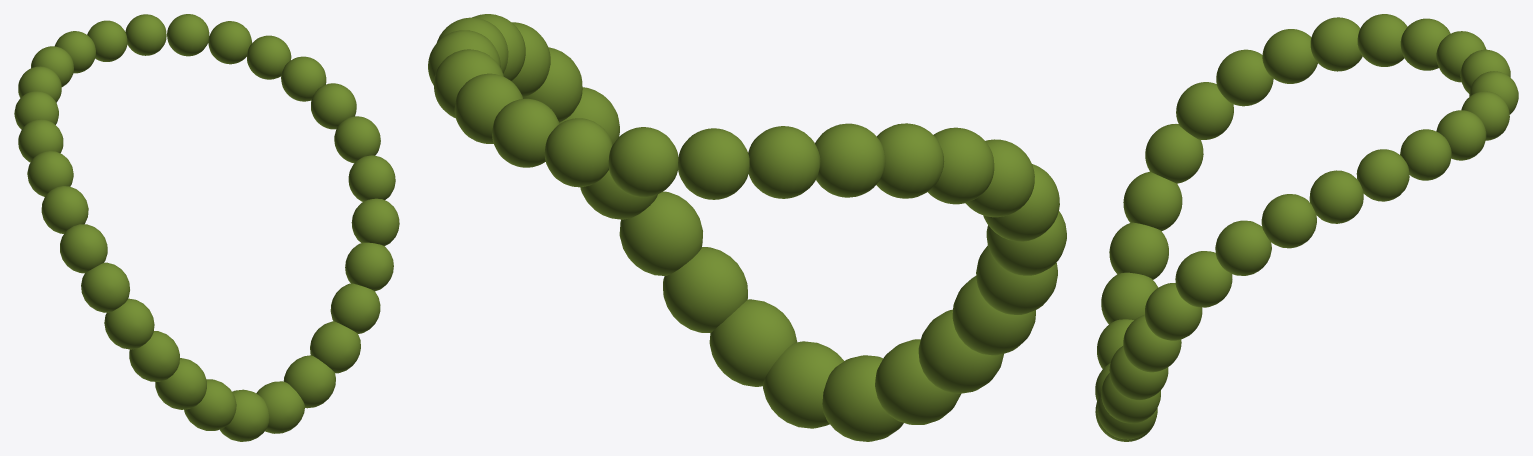
Rendered from PearlNecklacePickup.fbx.
3 renders of one model, left to right at view 1: azimuth 30°, elevation 25°; view 2: azimuth 150°, elevation 25°; view 3: azimuth 270°, elevation 25°, orthographic. The views are drawn at different scales.
Visible parts, largest first — view 1: MASH1_ReproMesh; view 2: MASH1_ReproMesh; view 3: MASH1_ReproMesh.
Boxes of the visible parts, x1=… form: MASH1_ReproMesh: x1=14, y1=14, x2=399, y2=441; MASH1_ReproMesh: x1=428, y1=14, x2=1066, y2=441; MASH1_ReproMesh: x1=1095, y1=14, x2=1518, y2=441.
Bounding box in the file's own units: 14.85 × 12.82 × 13.78.
